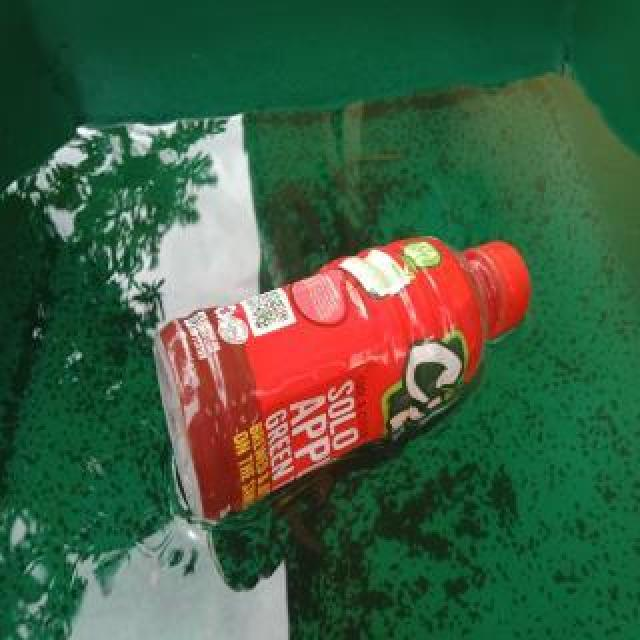bottle: (146, 232, 534, 526)
